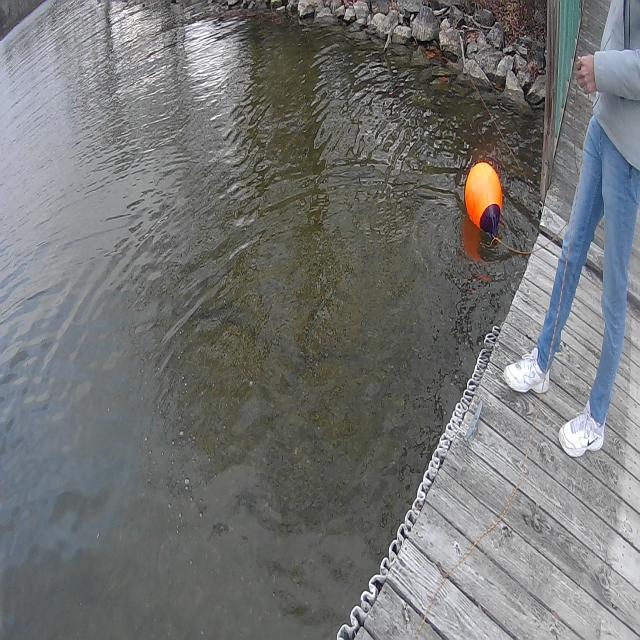Buoy: (461, 153, 507, 246)
